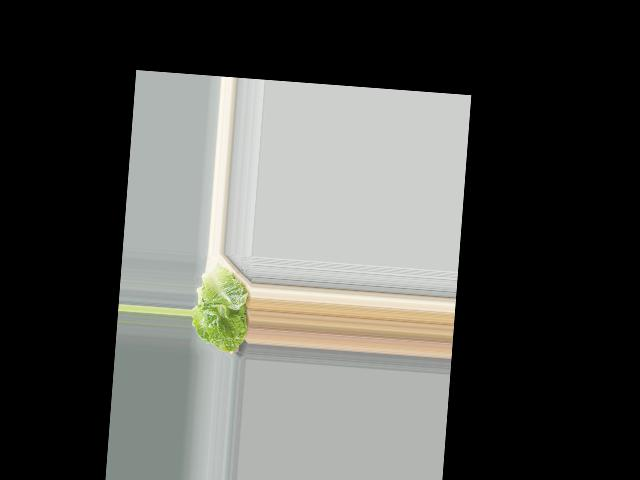lettuce: (189, 264, 253, 356)
